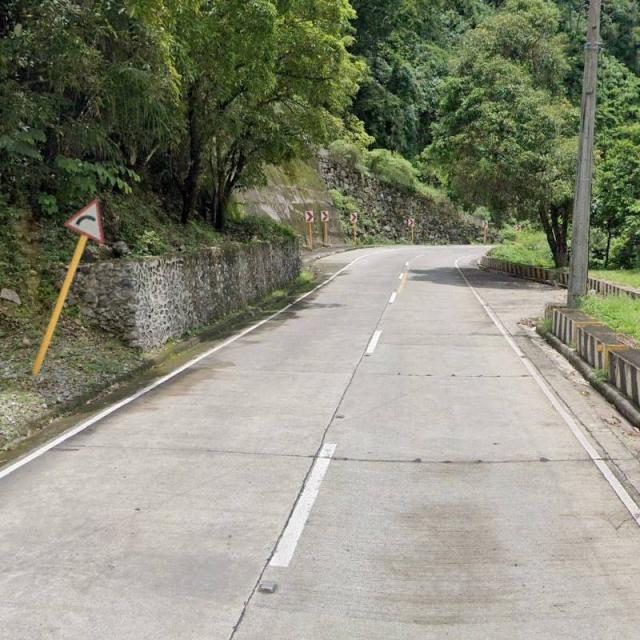warn_right_curve: (65, 198, 103, 244)
